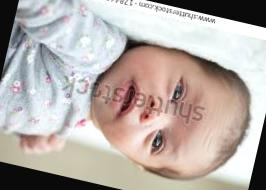opened: (142, 68, 194, 170)
